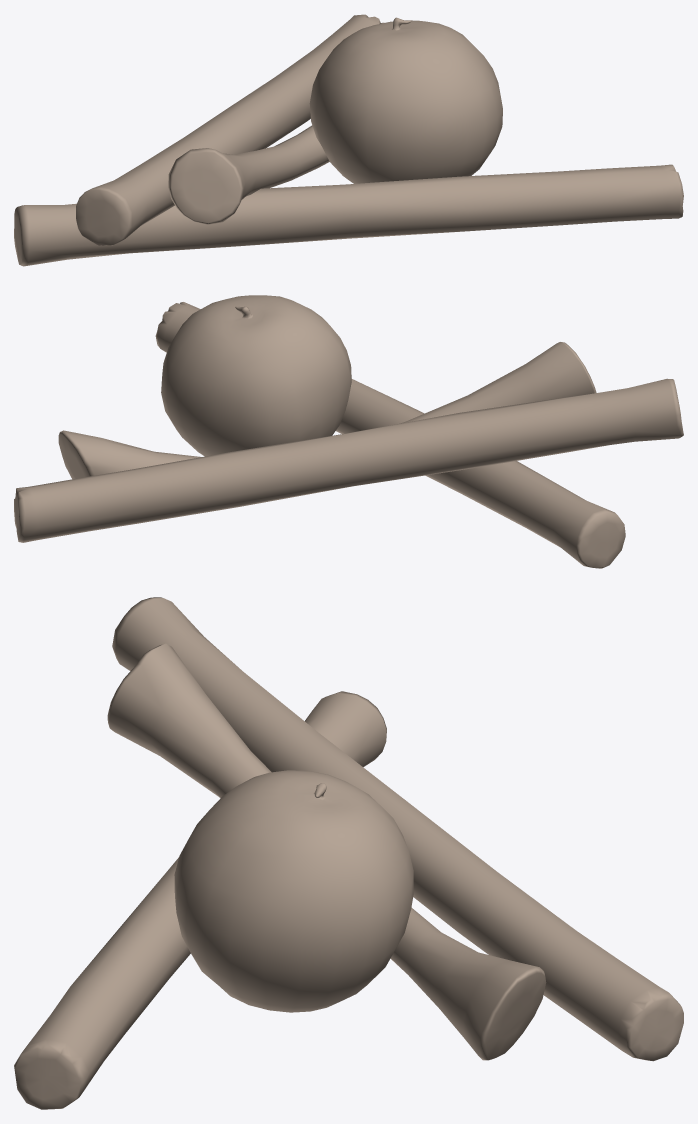
The model's file is separatedPieces01.fbx.
3 views of the same model, one above another, from view 1: azimuth 30°, elevation 25°; view 2: azimuth 150°, elevation 25°; view 3: azimuth 270°, elevation 25° (orthographic). The views are drawn at different scales.
Parts seen in each view (by area): view 1: separatedPieces01_LOD0; view 2: separatedPieces01_LOD0; view 3: separatedPieces01_LOD0.
Boxes of the visible parts, x1,y1,x2,y2 form: separatedPieces01_LOD0: (14, 14, 683, 266); separatedPieces01_LOD0: (14, 295, 683, 568); separatedPieces01_LOD0: (14, 597, 683, 1109).
Bounding box in the file's own units: 195 × 54.85 × 154.
